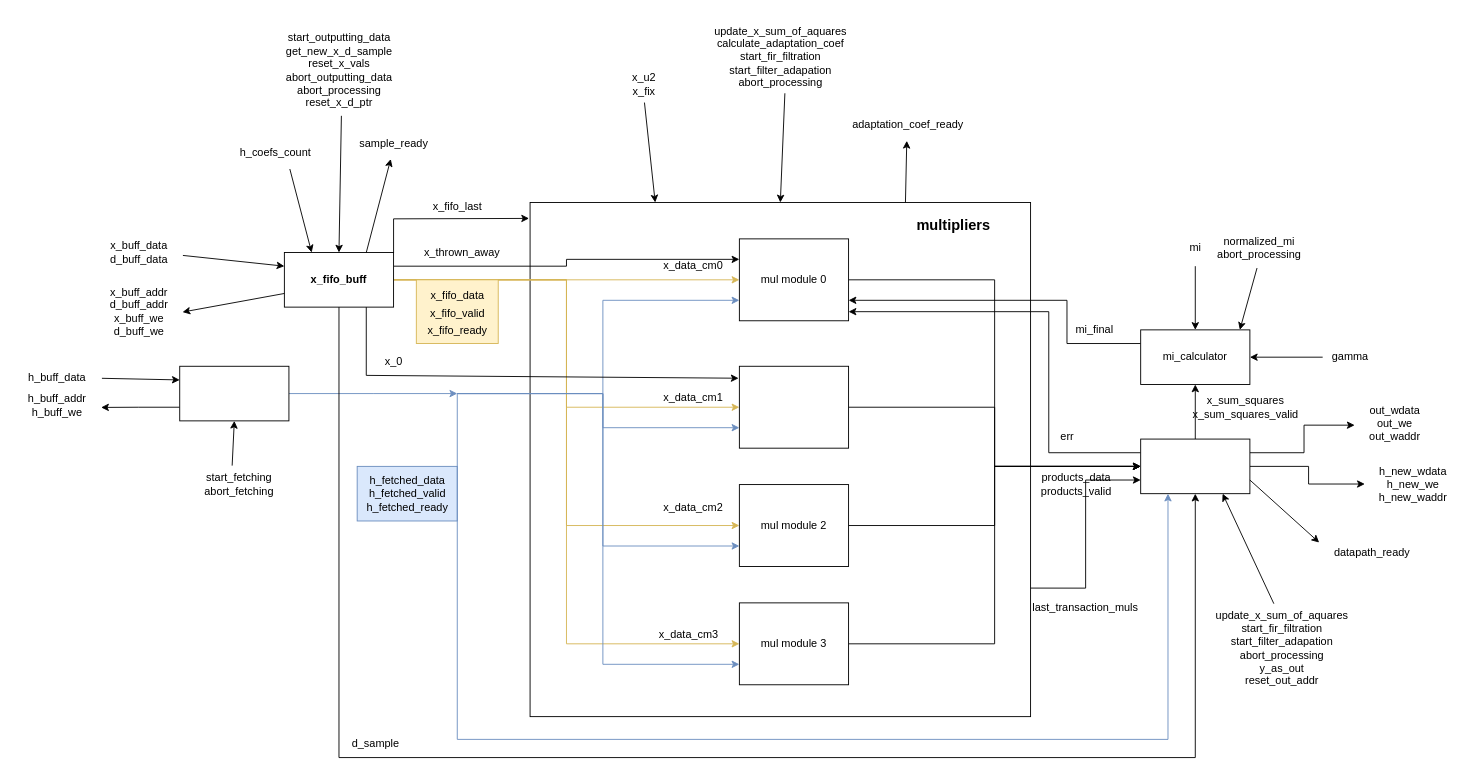
Some shapes in this 1473 by 781 pixel diagram are drawn without their labels. Here are the shapes that lost their labels. From the top down, the centre of each, then its label:
pixel 234 393: h_fetch_manager
pixel 793 406: mul module 1
pixel 1195 466: product_processor
